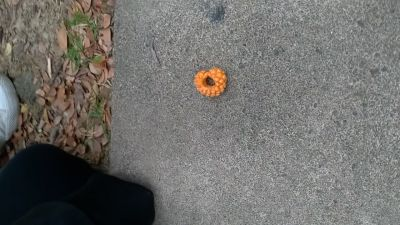eggs: (192, 65, 228, 98)
